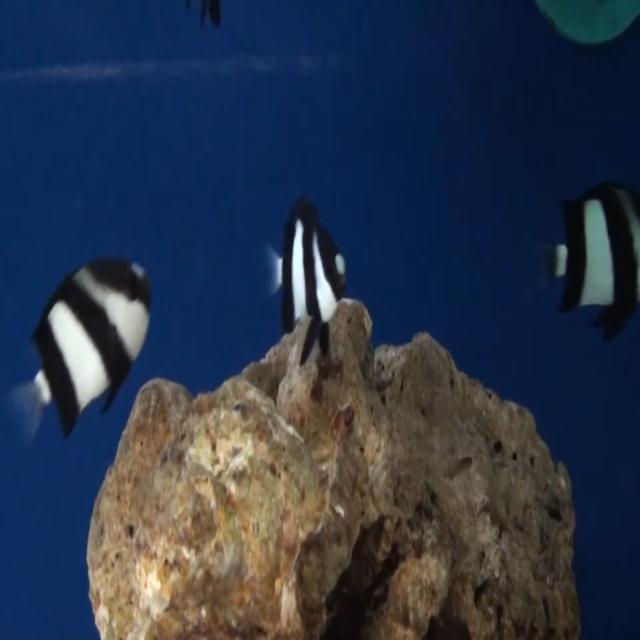ThreeStripedDamselfish: (13, 258, 152, 440), (266, 197, 347, 334)
